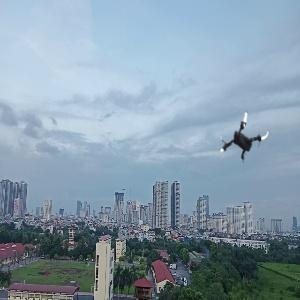drone: (213, 111, 273, 171)
